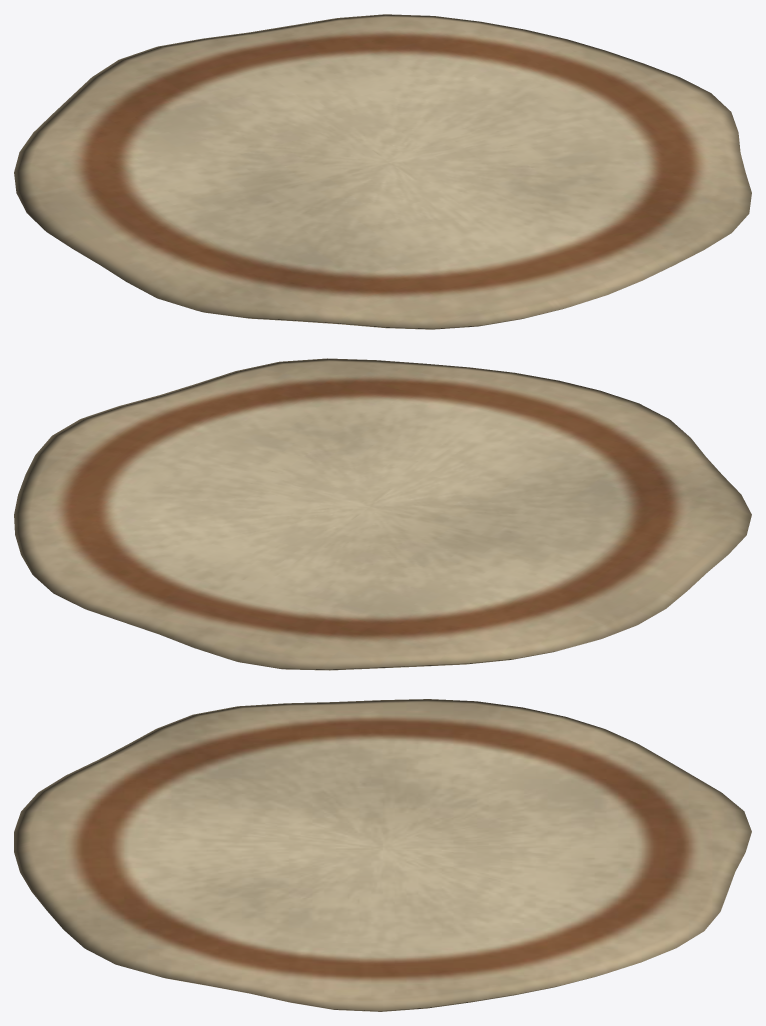
Rendered from SM_Igloo_Rug_1.glb.
The picture shows the model from 3 angles, top to bottom: view 1: azimuth 30°, elevation 25°; view 2: azimuth 150°, elevation 25°; view 3: azimuth 270°, elevation 25°; orthographic projection.
Parts seen in each view (by area): view 1: SM_Igloo_Rug_1; view 2: SM_Igloo_Rug_1; view 3: SM_Igloo_Rug_1.
Boxes of the visible parts, <box> form: SM_Igloo_Rug_1: <box>14,14,751,329</box>; SM_Igloo_Rug_1: <box>14,358,751,670</box>; SM_Igloo_Rug_1: <box>14,699,751,1011</box>.
Size of the model in its own units: 2.01 by 0.0453 by 2.01.
Materials: 1 (1 with a texture image).
